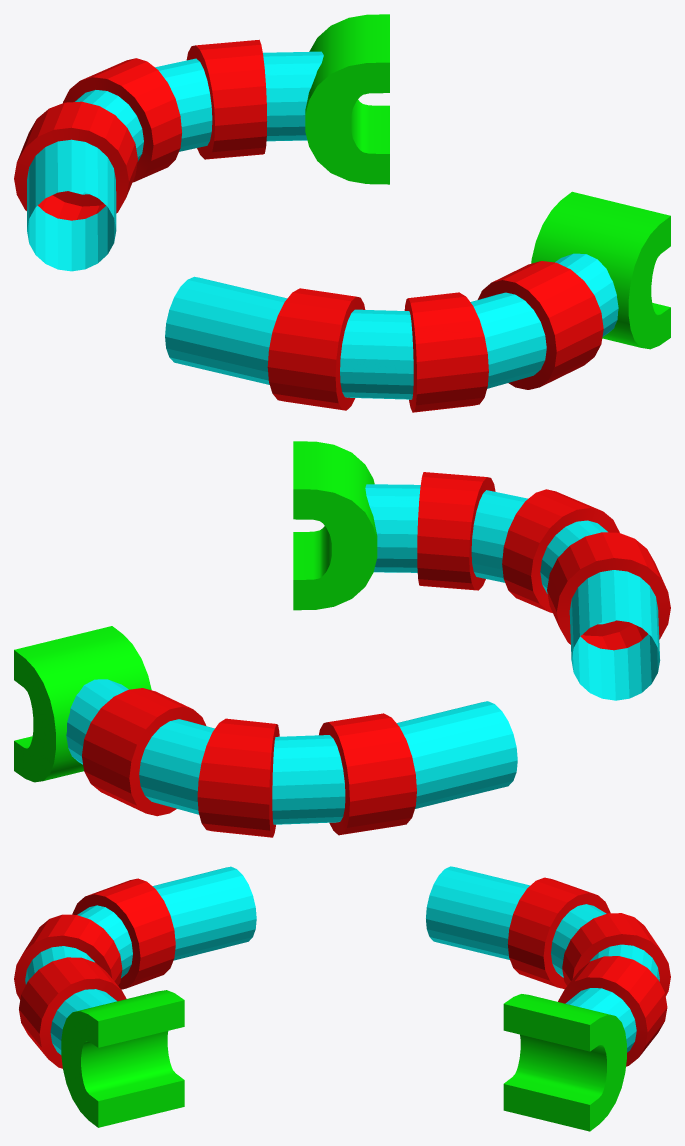
File: robot_arms_full.fbx
3 views of the same model, one above another, from view 1: azimuth 30°, elevation 25°; view 2: azimuth 150°, elevation 25°; view 3: azimuth 270°, elevation 25° (orthographic). The views are drawn at different scales.
Parts seen in each view (by area): view 1: robot_arms1_right_hand; view 2: robot_arms1_right_hand; view 3: robot_arms1_right_hand.
Part boxes in pixels (x1,y1,x2,y2): robot_arms1_right_hand: (14,14,670,412); robot_arms1_right_hand: (14,441,670,837); robot_arms1_right_hand: (14,866,670,1131).
Bounding box in the file's own units: 0.013 × 0.00357 × 0.0193.
